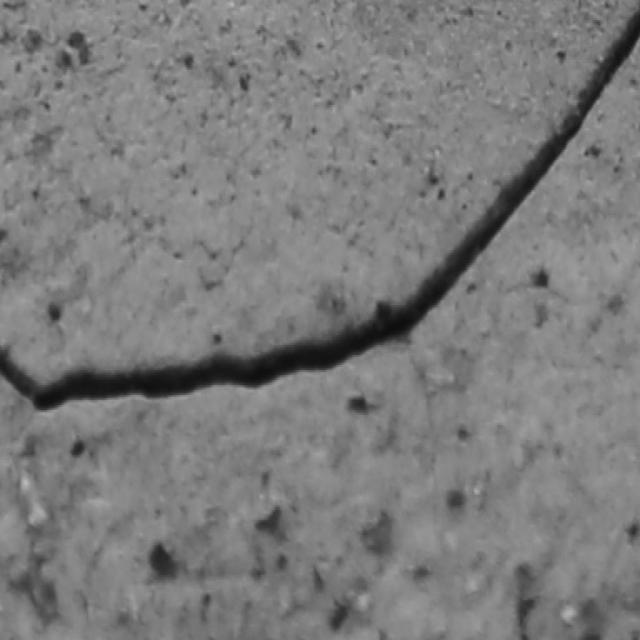SurfaceCrack: (0, 2, 639, 445)
